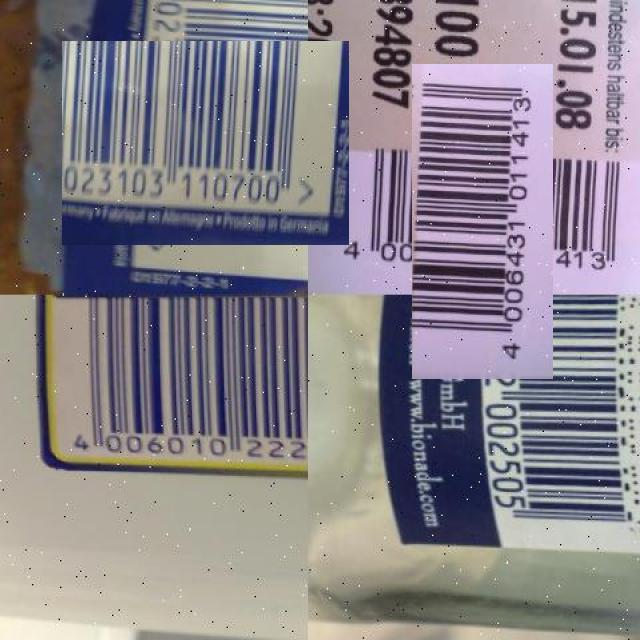Barcode: (82, 21, 329, 266), (368, 107, 596, 336), (56, 294, 308, 470), (483, 295, 640, 558)
